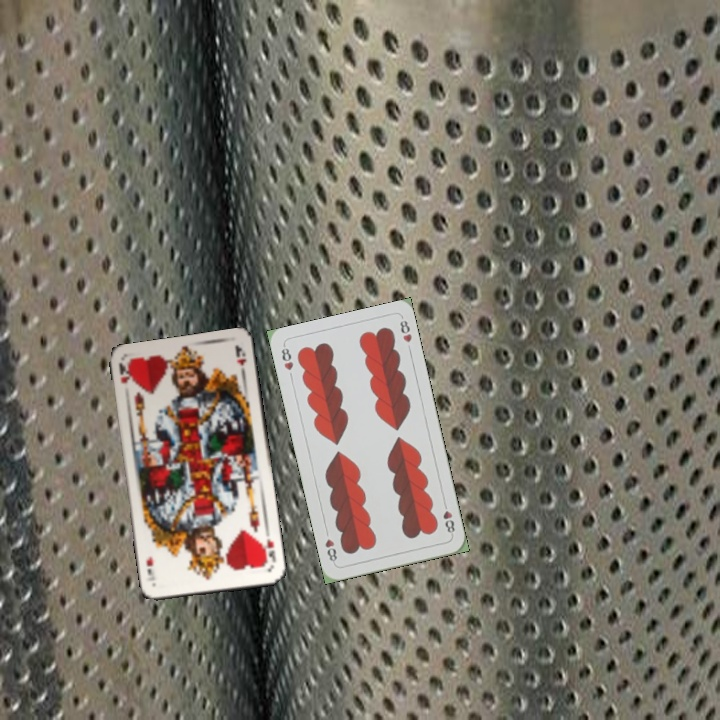H8: (439, 498, 457, 538), (277, 342, 296, 373)
HK: (258, 528, 279, 570), (114, 358, 132, 386)
